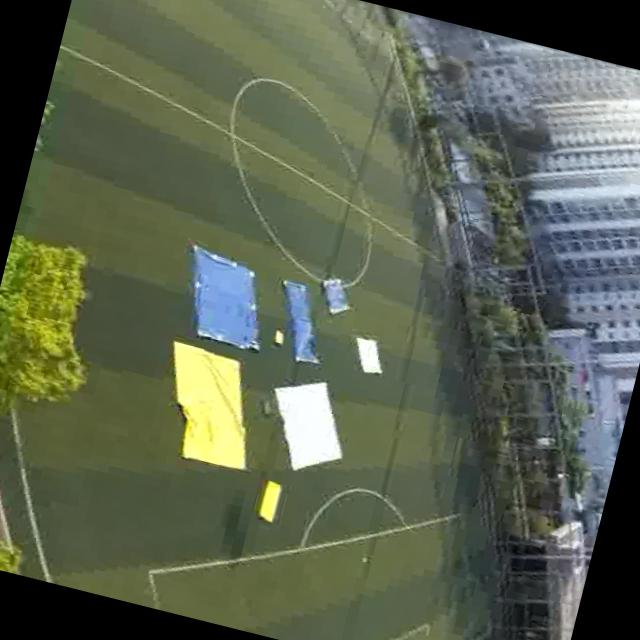danger: (166, 239, 278, 351), (282, 316, 330, 368), (312, 273, 364, 320)
safety: (252, 366, 365, 485), (340, 330, 390, 378)
warning: (144, 334, 277, 475), (250, 476, 292, 528)
